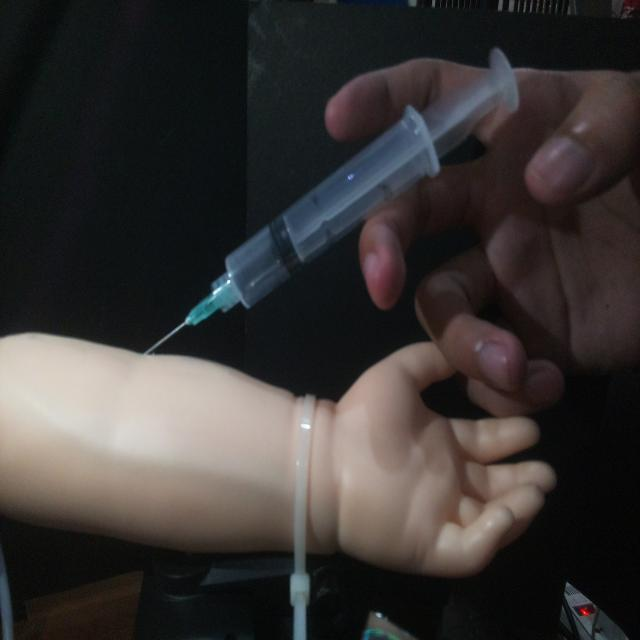29deg: (138, 43, 522, 358)
